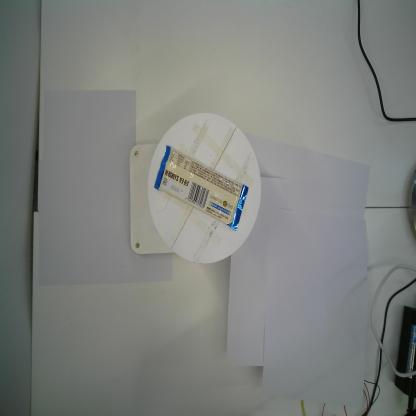Chocolate: (154, 144, 249, 232)
